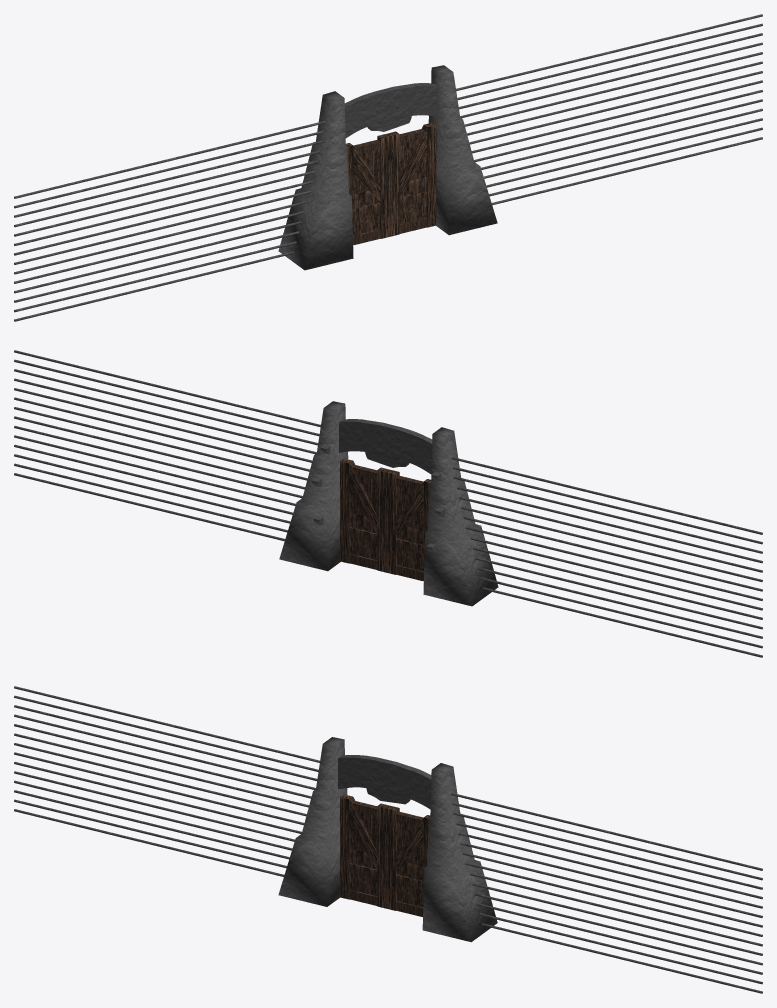
Rendered from Entrada1.obj.
The picture shows the model from 3 angles, top to bottom: view 1: azimuth 30°, elevation 25°; view 2: azimuth 150°, elevation 25°; view 3: azimuth 330°, elevation 25°; orthographic projection.
Parts seen in each view (by area): view 1: Fence_Cables, Gate_Side, DOOR, Sign_base; view 2: Fence_Cables, Gate_Side, DOOR, Sign_base; view 3: Fence_Cables, Gate_Side, DOOR, Sign_base.
Part boxes in pixels (x1,y1,x2,y2): Fence_Cables: (14, 14, 762, 321); Gate_Side: (278, 65, 497, 270); DOOR: (345, 122, 436, 245); Sign_base: (344, 83, 437, 137); Fence_Cables: (14, 350, 762, 657); Gate_Side: (279, 401, 498, 606); DOOR: (340, 458, 431, 581); Sign_base: (339, 419, 432, 473); Fence_Cables: (14, 686, 762, 993); Gate_Side: (278, 737, 497, 942); DOOR: (340, 794, 430, 916); Sign_base: (338, 755, 431, 809).
Size of the model in its own units: 1941 by 383 by 128.
Materials: 2 (2 with a texture image).
